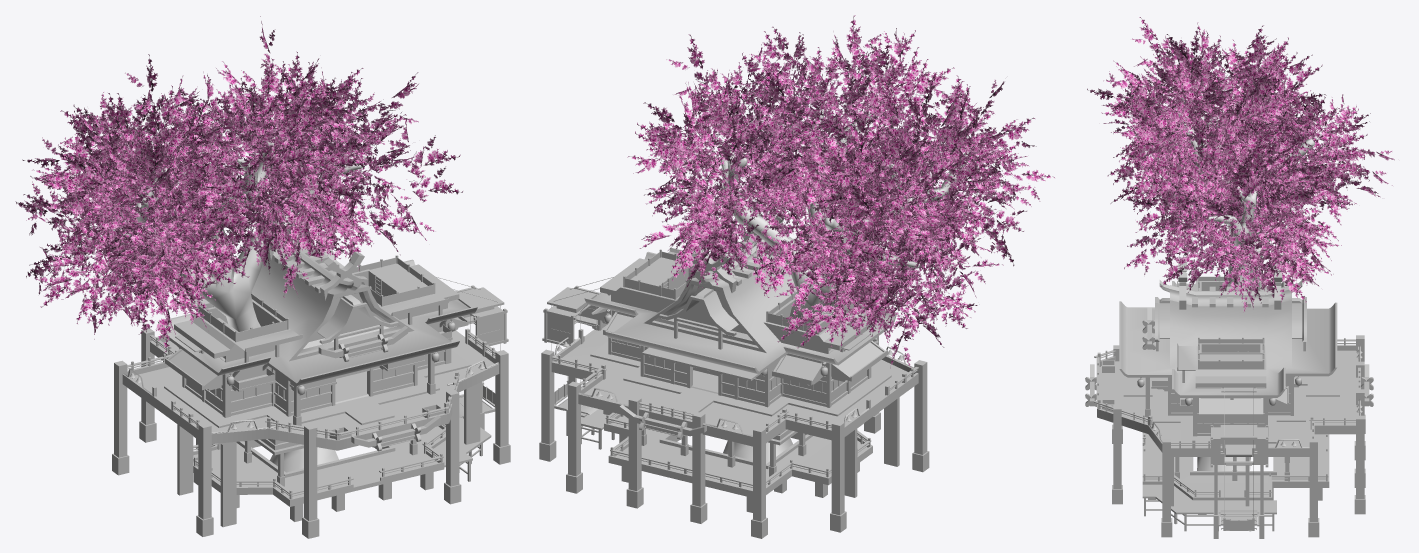
The model's file is Palace_Main.fbx.
3 renders of one model, left to right at view 1: azimuth 30°, elevation 25°; view 2: azimuth 150°, elevation 25°; view 3: azimuth 270°, elevation 25°, orthographic. The views are drawn at different scales.
Visible parts, largest first — view 1: Palace_GreatTreeLeaf, Palace_MainBuilding, Palace_Base2_MainPillar, Palace_Base2_Floor, Palace_Base1_Base, Palace_Base2_Pillar2, Palace_Base1_LiftPillar, Palace_Base2_Roof1, Palace_Base2_Acc1, Palace_Base1_LiftPlatform2, Palace_Base2_Fence, Palace_Base2_Fence1 (+2 smaller); view 2: Palace_GreatTreeLeaf, Palace_MainBuilding, Palace_Base2_MainPillar, Palace_Base2_Floor, Palace_Base1_Base, Palace_Base2_Roof1, Palace_Base2_Pillar2, Palace_Base1_LiftPlatform2, Palace_Base1_LiftPillar, Palace_Base2_Fence, Palace_Base2_Acc1, Palace_Base1_Fence (+2 smaller); view 3: Palace_GreatTreeLeaf, Palace_MainBuilding, Palace_Base2_Floor, Palace_Base2_MainPillar, Palace_Base1_Base, Palace_Base1_LiftPlatform2, Palace_Base2_Roof1, Palace_Base1_LiftPlatform, Palace_Base2_Pillar2, Palace_Base2_Acc1, Palace_Base2_Fence, Palace_Base2_Fence1 (+2 smaller).
Boxes of the visible parts, bbox=[...] form: Palace_GreatTreeLeaf: bbox=[15, 16, 462, 472]; Palace_MainBuilding: bbox=[158, 235, 477, 428]; Palace_Base2_MainPillar: bbox=[112, 328, 510, 538]; Palace_Base2_Floor: bbox=[122, 330, 499, 450]; Palace_Base1_Base: bbox=[193, 425, 445, 506]; Palace_Base2_Pillar2: bbox=[182, 255, 451, 425]; Palace_Base1_LiftPillar: bbox=[177, 383, 480, 527]; Palace_Base2_Roof1: bbox=[165, 316, 468, 438]; Palace_Base2_Acc1: bbox=[129, 318, 484, 451]; Palace_Base1_LiftPlatform2: bbox=[454, 287, 504, 429]; Palace_Base2_Fence: bbox=[131, 328, 494, 499]; Palace_Base2_Fence1: bbox=[127, 332, 496, 436]; Palace_GreatTreeLeaf: bbox=[627, 15, 1054, 463]; Palace_MainBuilding: bbox=[584, 207, 896, 416]; Palace_Base2_MainPillar: bbox=[539, 336, 929, 538]; Palace_Base2_Floor: bbox=[551, 322, 918, 446]; Palace_Base1_Base: bbox=[604, 414, 872, 497]; Palace_Base2_Roof1: bbox=[591, 307, 887, 385]; Palace_Base2_Pillar2: bbox=[608, 249, 871, 407]; Palace_Base1_LiftPlatform2: bbox=[547, 287, 598, 435]; Palace_Base1_LiftPillar: bbox=[603, 397, 899, 497]; Palace_Base2_Fence: bbox=[558, 319, 913, 487]; Palace_Base2_Acc1: bbox=[557, 309, 903, 439]; Palace_Base1_Fence: bbox=[605, 412, 871, 487]; Palace_GreatTreeLeaf: bbox=[1087, 17, 1394, 470]; Palace_MainBuilding: bbox=[1119, 262, 1339, 443]; Palace_Base2_Floor: bbox=[1097, 344, 1360, 456]; Palace_Base2_MainPillar: bbox=[1112, 335, 1365, 537]; Palace_Base1_Base: bbox=[1142, 433, 1329, 500]; Palace_Base1_LiftPlatform2: bbox=[1213, 425, 1265, 538]; Palace_Base2_Roof1: bbox=[1102, 360, 1307, 418]; Palace_Base1_LiftPlatform: bbox=[1142, 484, 1276, 531]; Palace_Base2_Pillar2: bbox=[1145, 275, 1305, 436]; Palace_Base2_Acc1: bbox=[1085, 307, 1373, 446]; Palace_Base2_Fence: bbox=[1097, 338, 1360, 497]; Palace_Base2_Fence1: bbox=[1094, 339, 1360, 445].
Bounding box in the file's own units: 3262 × 3035 × 2258.
